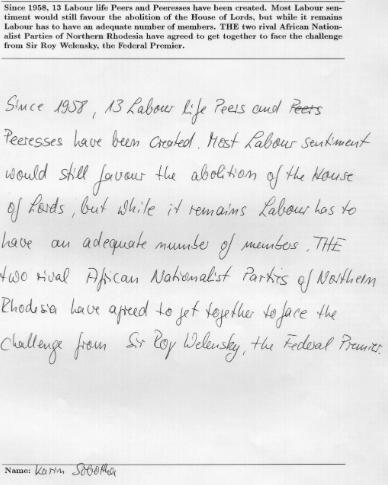text: (0, 328, 385, 369), (4, 160, 356, 198), (0, 228, 349, 263), (0, 264, 378, 296), (5, 193, 359, 226), (0, 295, 339, 329), (3, 93, 327, 126), (3, 127, 374, 151), (4, 2, 344, 14), (4, 21, 344, 33), (3, 12, 345, 22), (4, 31, 344, 41), (3, 461, 119, 480), (3, 41, 186, 51)
